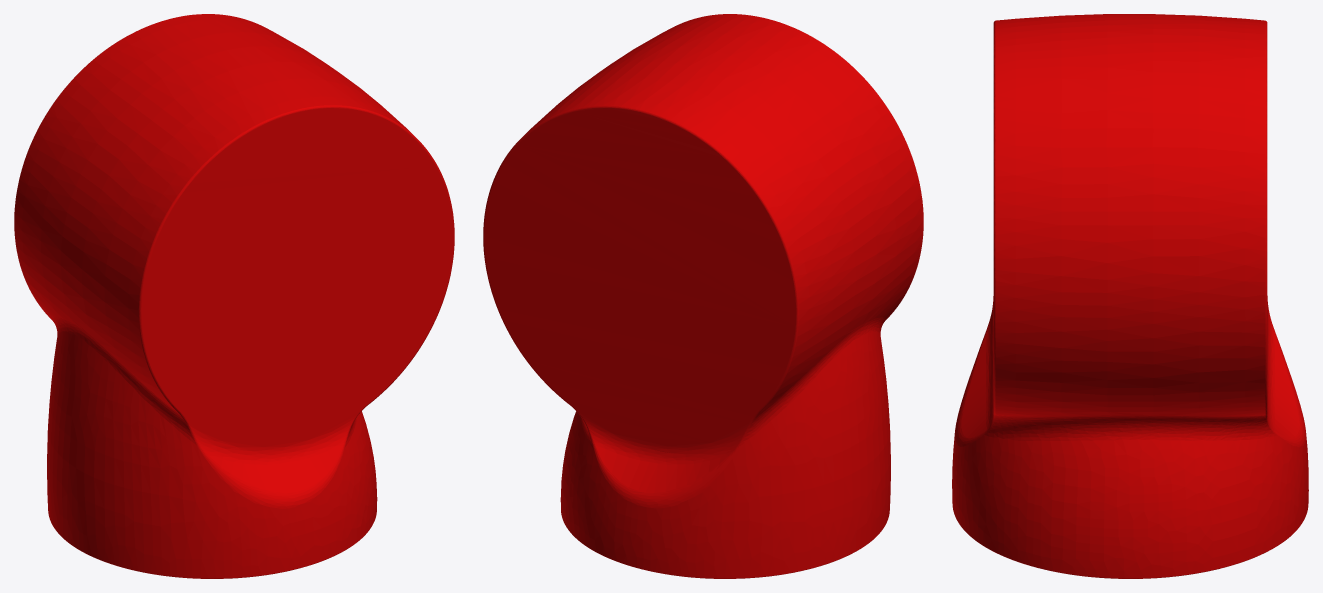
The picture shows the model from 3 angles, left to right: view 1: azimuth 30°, elevation 25°; view 2: azimuth 150°, elevation 25°; view 3: azimuth 270°, elevation 25°; orthographic projection. The views are drawn at different scales.
Visible parts, largest first — view 1: Untitled; view 2: Untitled; view 3: Untitled.
Part boxes in pixels (x1,y1,x2,y2): Untitled: (14,14,454,578); Untitled: (483,14,923,578); Untitled: (952,14,1308,578).
Size of the model in its own units: 0.15 by 0.1303 by 0.1944.
